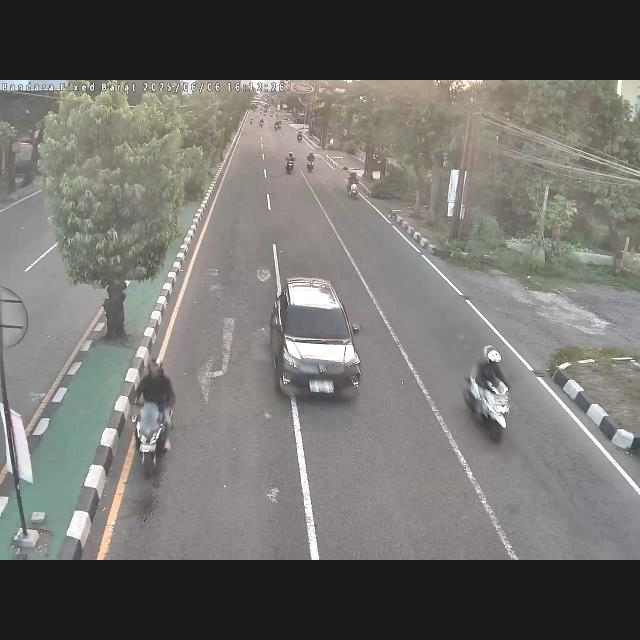Mobil: (272, 276, 364, 408)
Motor: (129, 364, 177, 484), (470, 346, 512, 440), (346, 171, 358, 199), (306, 151, 316, 175), (285, 152, 295, 174), (297, 130, 303, 142)
